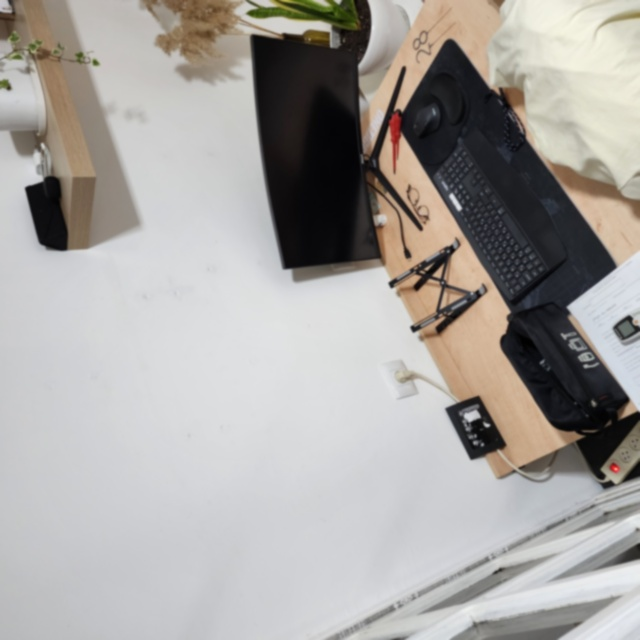glasses: (403, 181, 431, 226)
